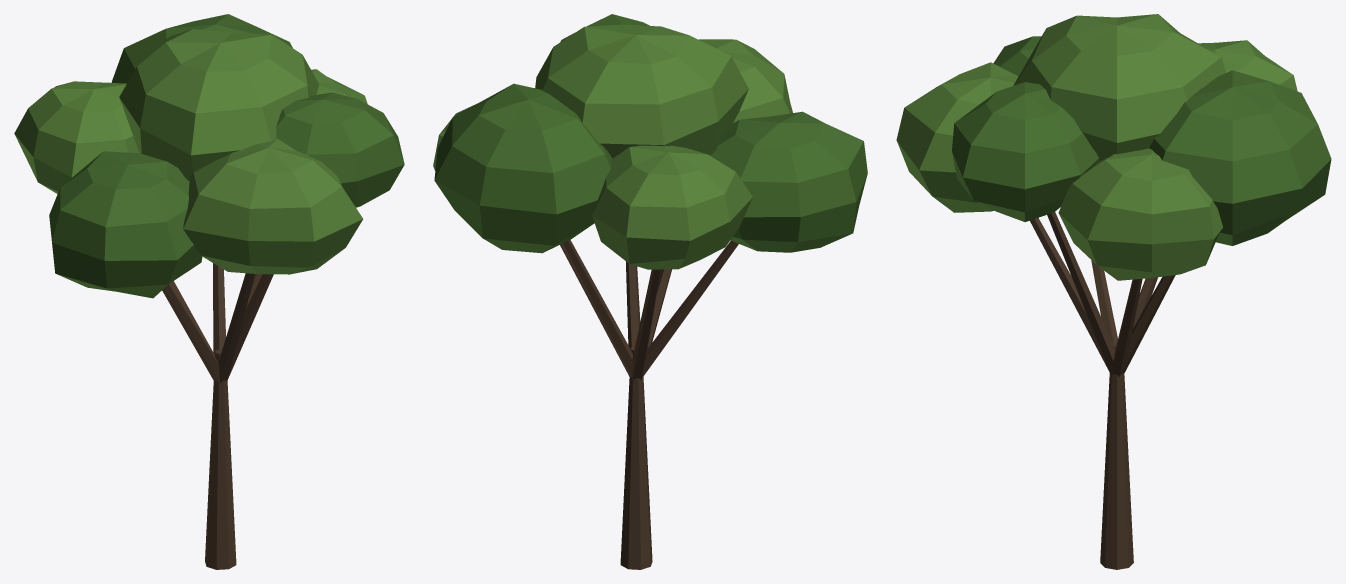
Rendered from tree_elm_small.glb.
3 views of the same model, side by side, from view 1: azimuth 30°, elevation 25°; view 2: azimuth 150°, elevation 25°; view 3: azimuth 270°, elevation 25° (orthographic). The views are drawn at different scales.
Visible parts, largest first — view 1: tree_elm_small; view 2: tree_elm_small; view 3: tree_elm_small.
Part boxes in pixels (x1,y1,x2,y2): tree_elm_small: (14,14,404,569); tree_elm_small: (433,14,867,569); tree_elm_small: (896,14,1331,569).
Size of the model in its own units: 3.18 by 4.43 by 3.25.
